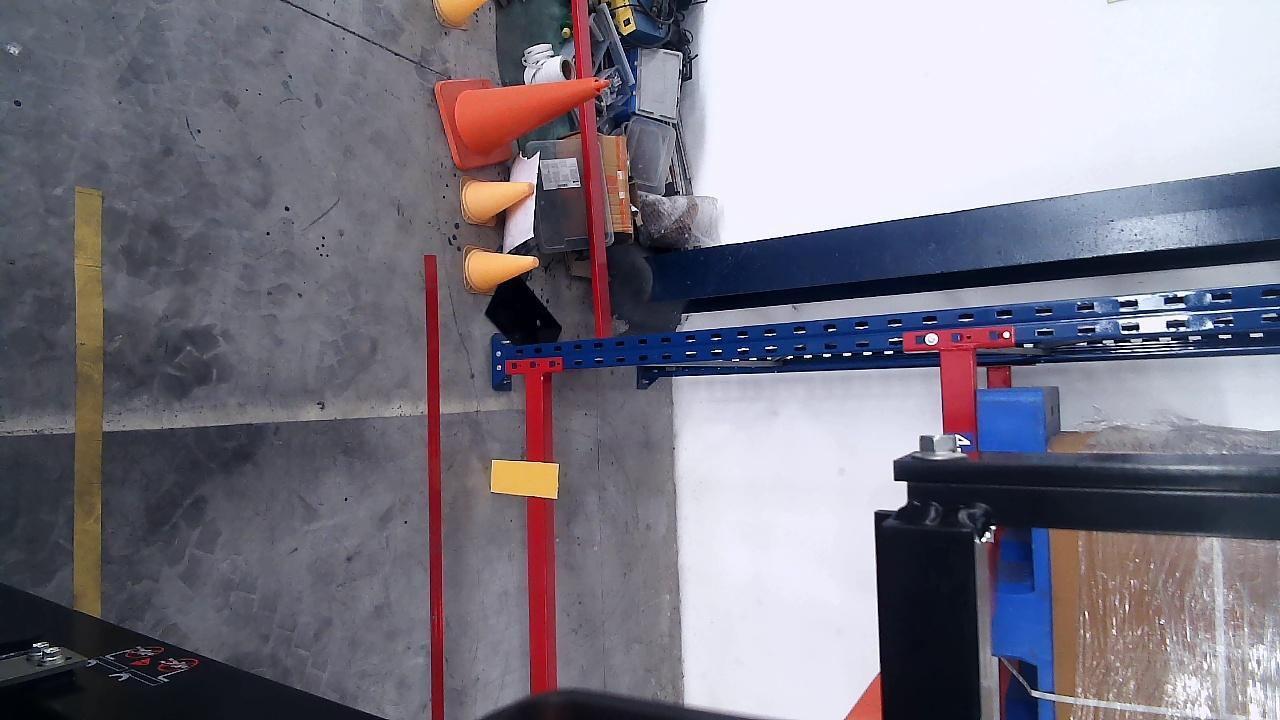h_rack: (527, 371, 555, 692), (492, 459, 558, 501)
red_line: (424, 253, 447, 718)
yellow_line: (74, 188, 105, 616)
